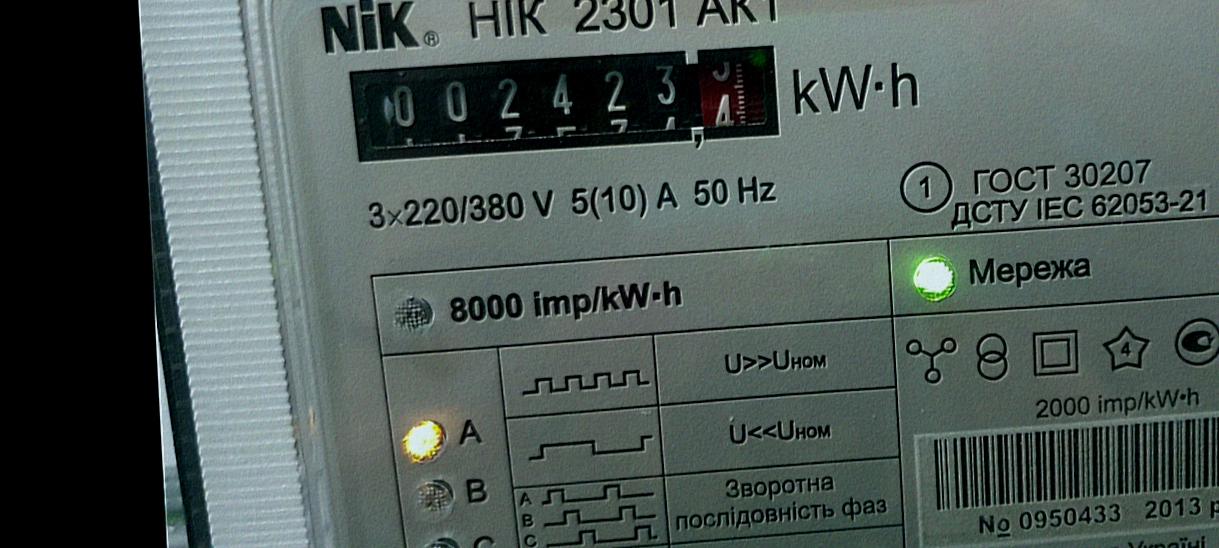0: (390, 81, 419, 131), (443, 79, 470, 125)
2: (495, 74, 523, 122), (602, 68, 628, 115)
3: (653, 62, 679, 108), (710, 59, 733, 83)
4: (549, 71, 574, 118), (710, 90, 737, 129)
screen: (338, 34, 794, 175)
